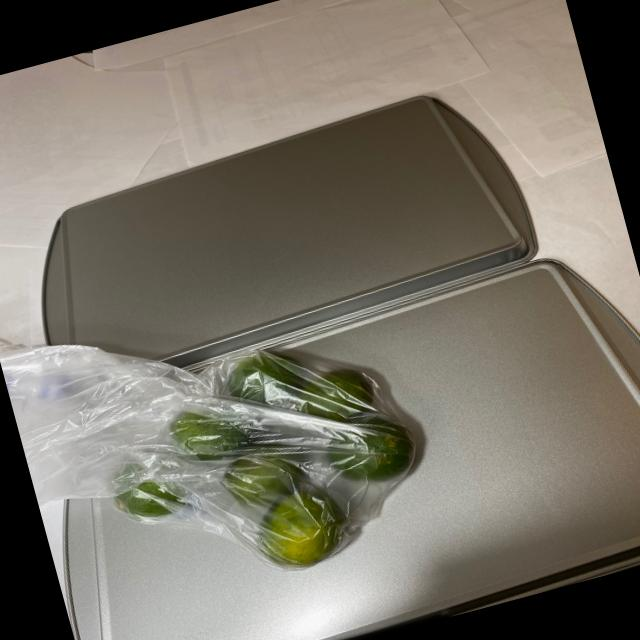lemon: (92, 320, 436, 608)
